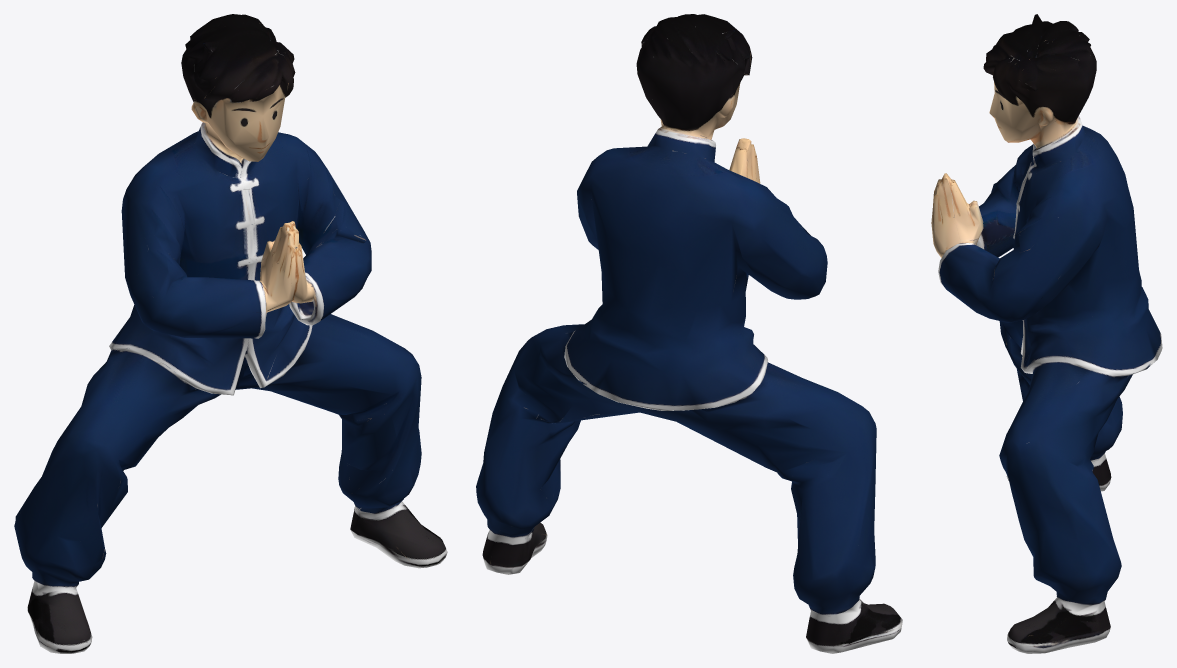
File: taichi3.glb
3 renders of one model, left to right at view 1: azimuth 30°, elevation 25°; view 2: azimuth 150°, elevation 25°; view 3: azimuth 270°, elevation 25°, orthographic. The views are drawn at different scales.
Visible parts, largest first — view 1: Mesh1.0; view 2: Mesh1.0; view 3: Mesh1.0.
Boxes of the visible parts, x1,y1,x2,y2 form: Mesh1.0: (14, 14, 447, 653); Mesh1.0: (476, 14, 902, 653); Mesh1.0: (931, 14, 1162, 653).
Size of the model in its own units: 0.347 by 0.4771 by 0.1846.
1 material, 1 textured.
